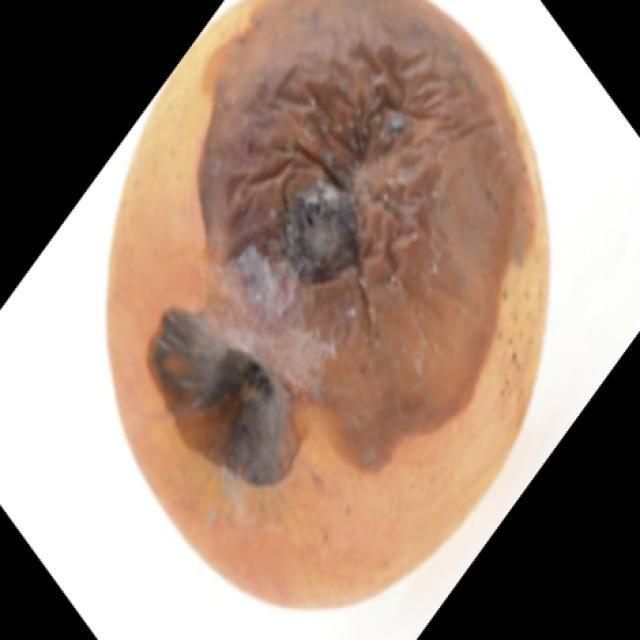Rotten: (87, 15, 560, 590)
